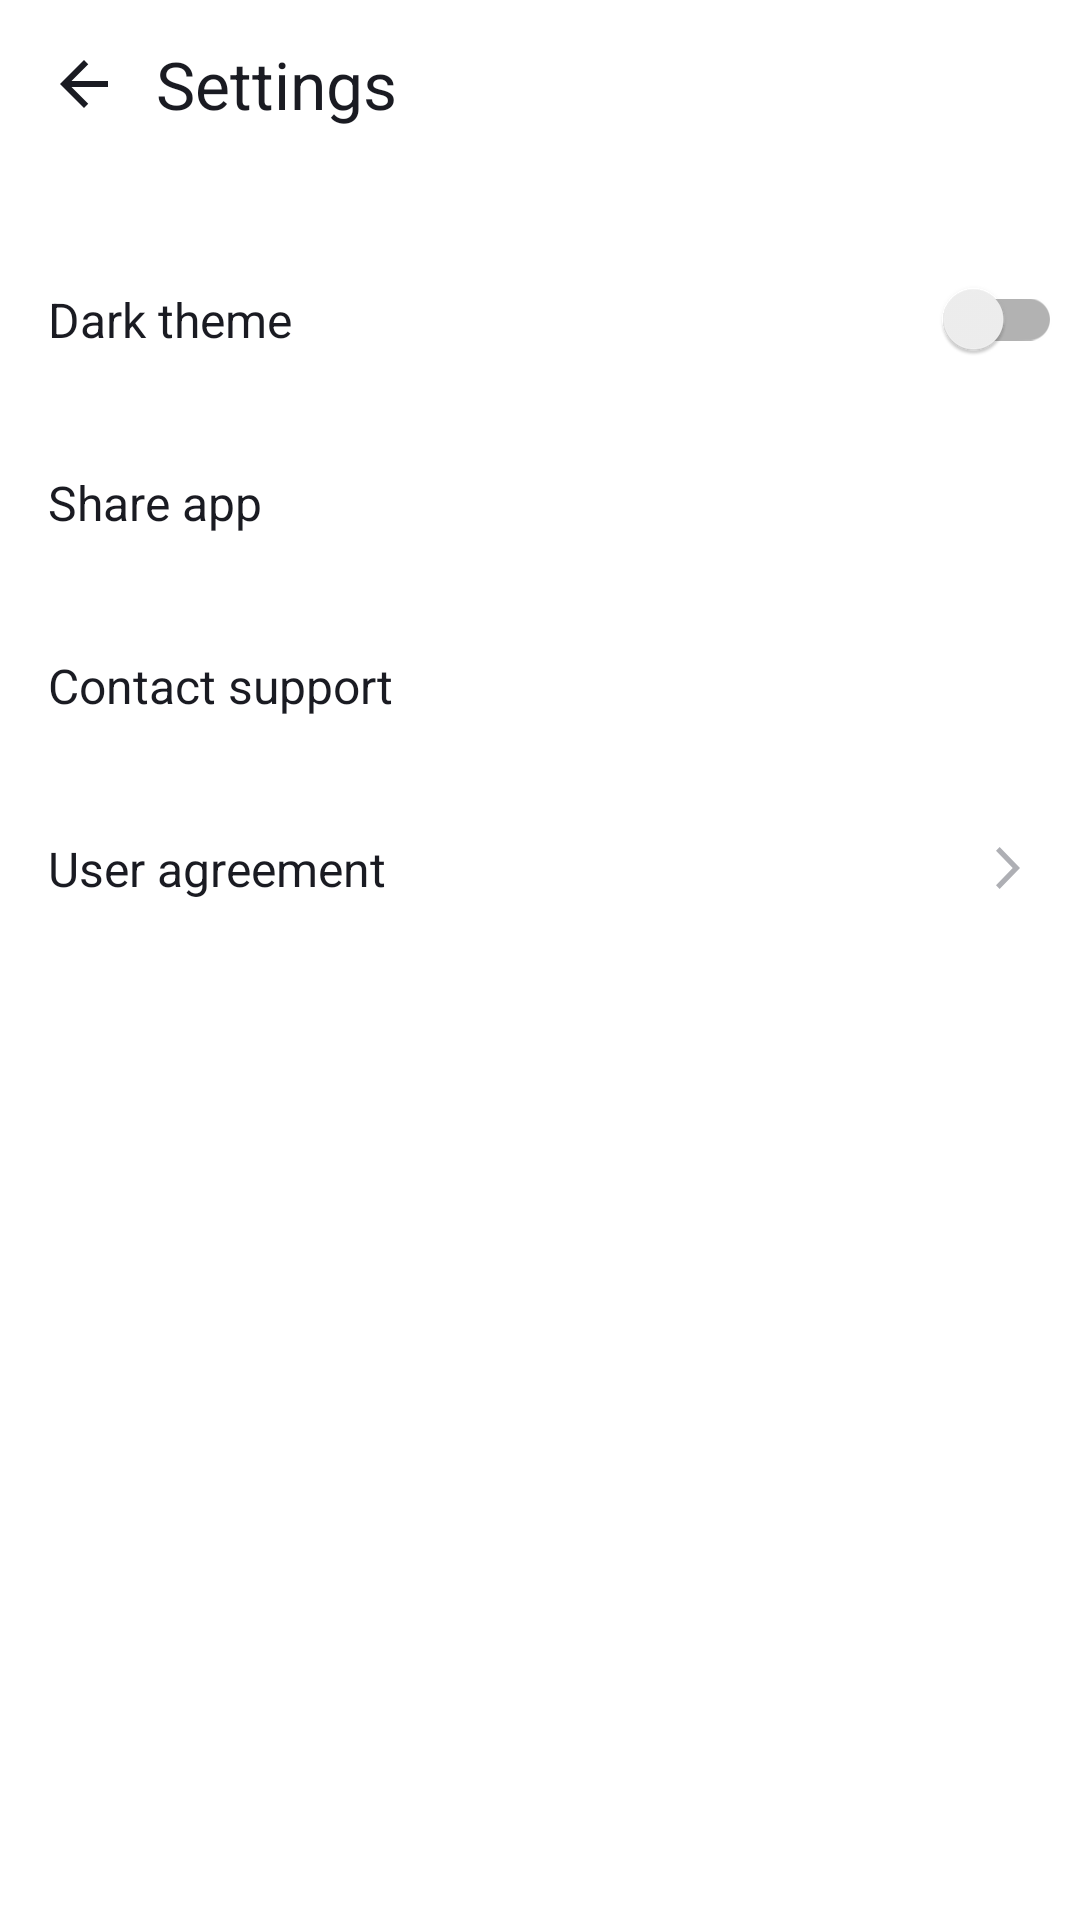

Named icons in this screenshot (1080 × 1920) and their centers, point (x, y):
back: point (84, 84)
eula arrow: point (1008, 868)
